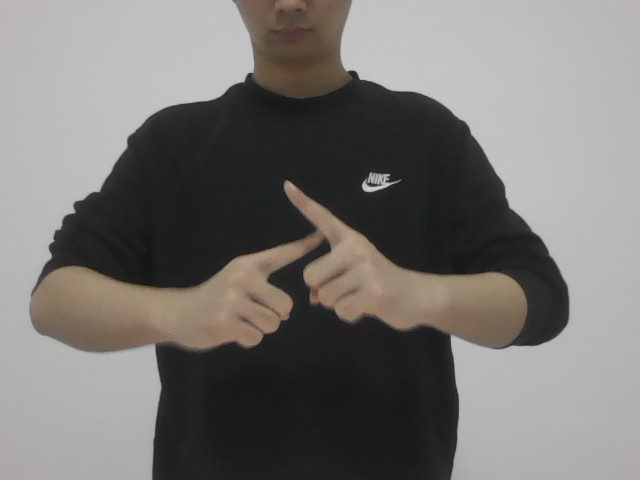peason: (189, 180, 406, 352)
